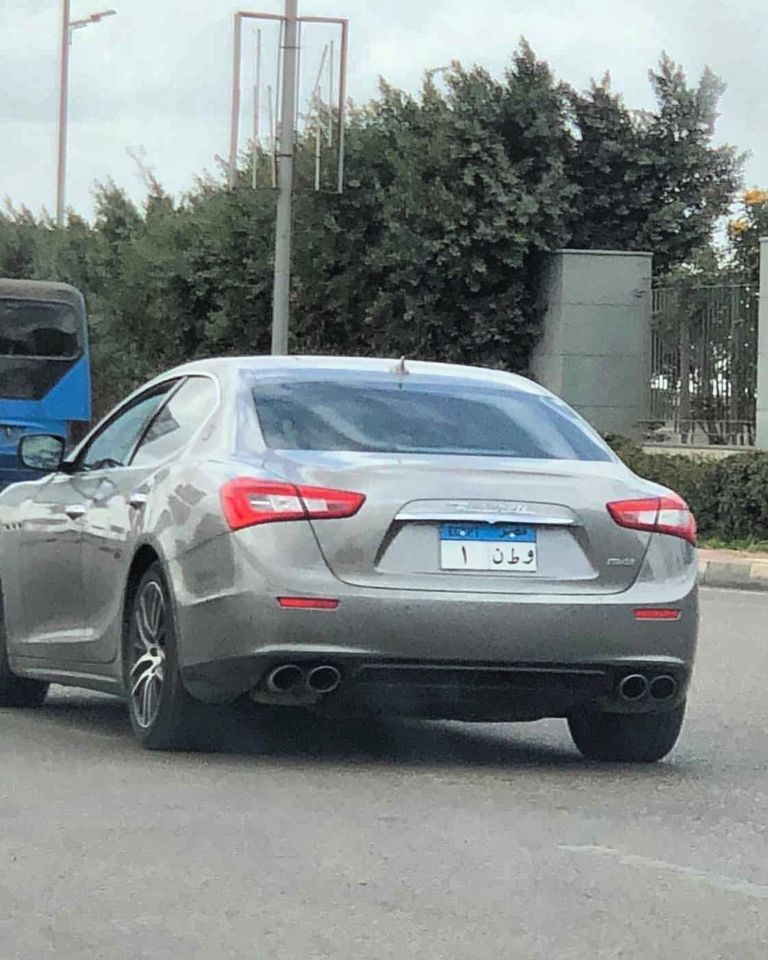carpl: (441, 522, 540, 572)
